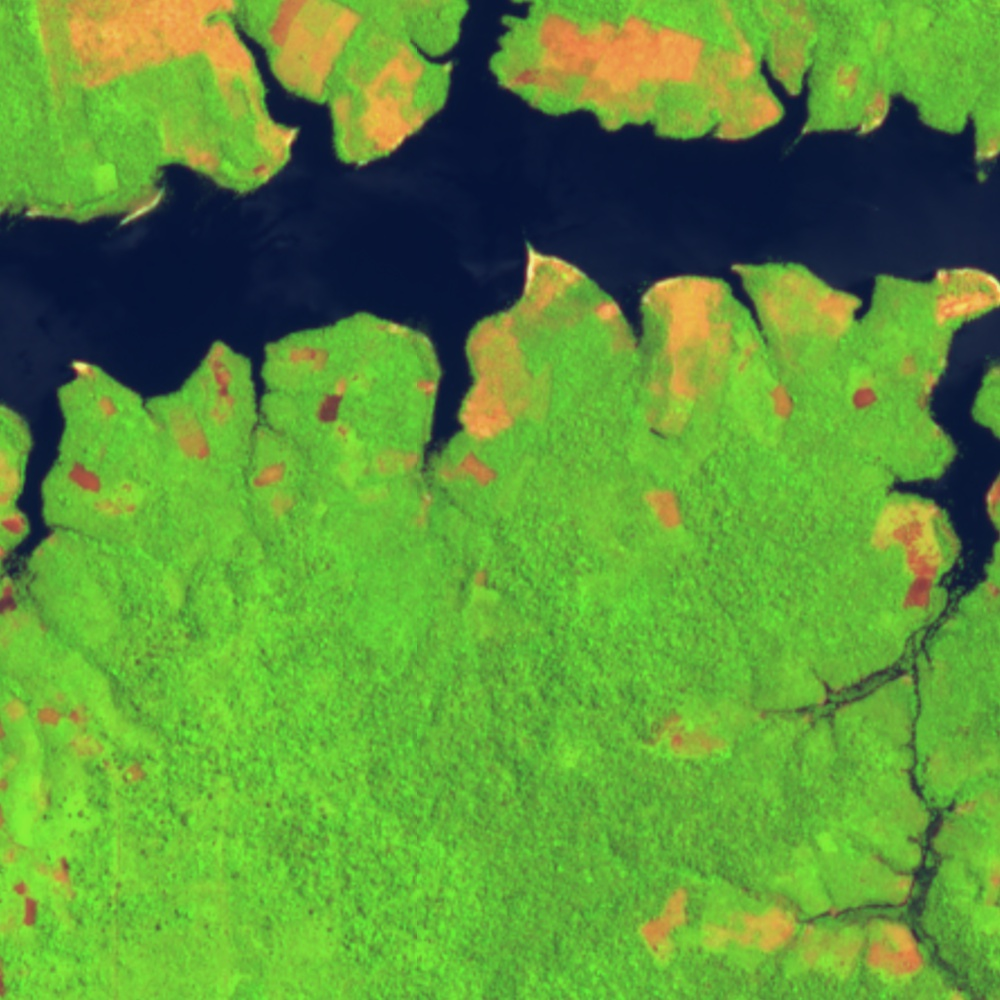legal: (509, 9, 786, 135), (460, 240, 590, 443), (36, 1, 265, 97), (641, 273, 762, 431), (704, 899, 926, 978), (335, 40, 438, 162), (733, 261, 863, 347), (369, 444, 500, 523), (268, 1, 366, 100), (871, 498, 958, 609), (1, 691, 112, 769), (166, 136, 296, 191), (16, 182, 168, 226), (63, 455, 143, 521), (375, 317, 439, 395), (902, 348, 955, 439), (641, 709, 730, 762), (760, 684, 843, 733), (935, 266, 1000, 328), (640, 884, 689, 964), (68, 359, 121, 417), (203, 343, 240, 424), (250, 457, 296, 517), (597, 296, 638, 352), (643, 485, 688, 527), (315, 379, 348, 434), (875, 848, 918, 890), (278, 343, 335, 373), (47, 856, 79, 902), (855, 90, 890, 132), (941, 793, 979, 827), (14, 881, 40, 929), (769, 381, 795, 427), (120, 764, 153, 791), (470, 564, 498, 590), (975, 132, 1000, 159), (852, 386, 881, 409), (987, 475, 1000, 516), (985, 581, 1000, 599)
